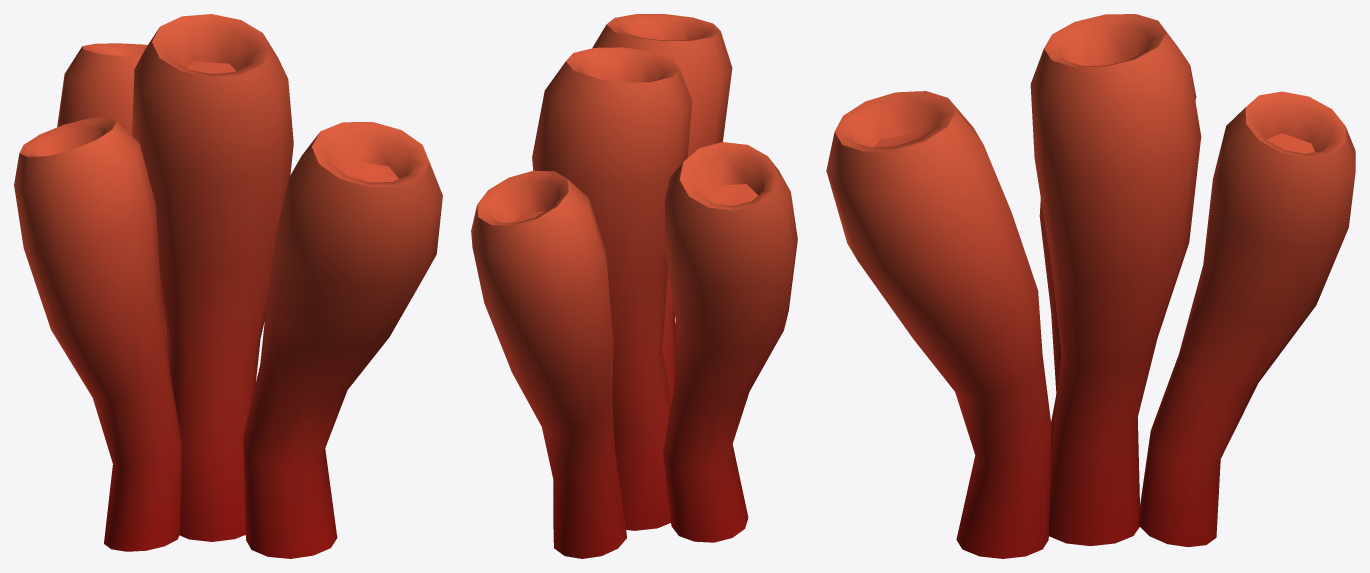
The model's file is coral_red.glb.
3 renders of one model, left to right at view 1: azimuth 30°, elevation 25°; view 2: azimuth 150°, elevation 25°; view 3: azimuth 270°, elevation 25°, orthographic. The views are drawn at different scales.
Visible parts, largest first — view 1: coral_red; view 2: coral_red; view 3: coral_red.
Boxes of the visible parts, left/top/right/bottom form: coral_red: left=14, top=14, right=442, bottom=558; coral_red: left=471, top=14, right=797, bottom=558; coral_red: left=826, top=14, right=1355, bottom=558.
Bounding box in the file's own units: 0.437 × 0.6518 × 0.6235.
Materials: 1 (1 with a texture image).
